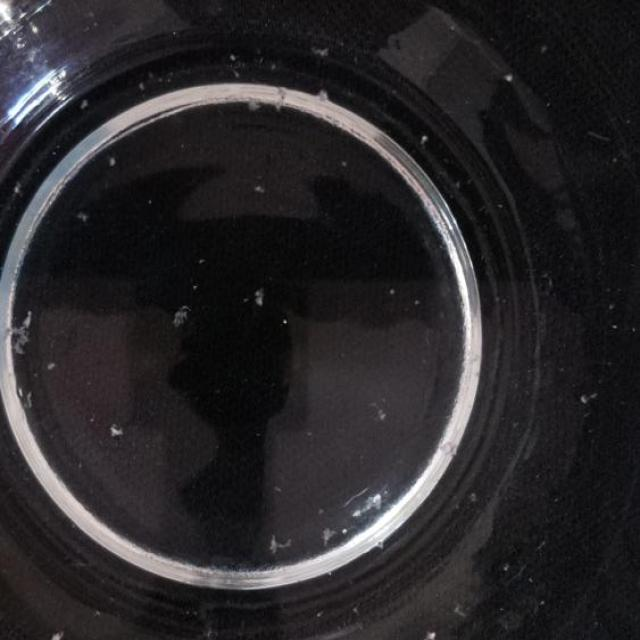fiber: (0, 301, 43, 366), (168, 296, 200, 334), (240, 90, 265, 126), (366, 391, 390, 425), (269, 80, 291, 116), (315, 520, 341, 550), (265, 533, 301, 554), (304, 41, 334, 63), (250, 282, 272, 312), (2, 181, 28, 205), (106, 420, 127, 448), (74, 205, 97, 226), (75, 94, 96, 115), (314, 88, 333, 104), (104, 152, 120, 170), (43, 626, 64, 639)
